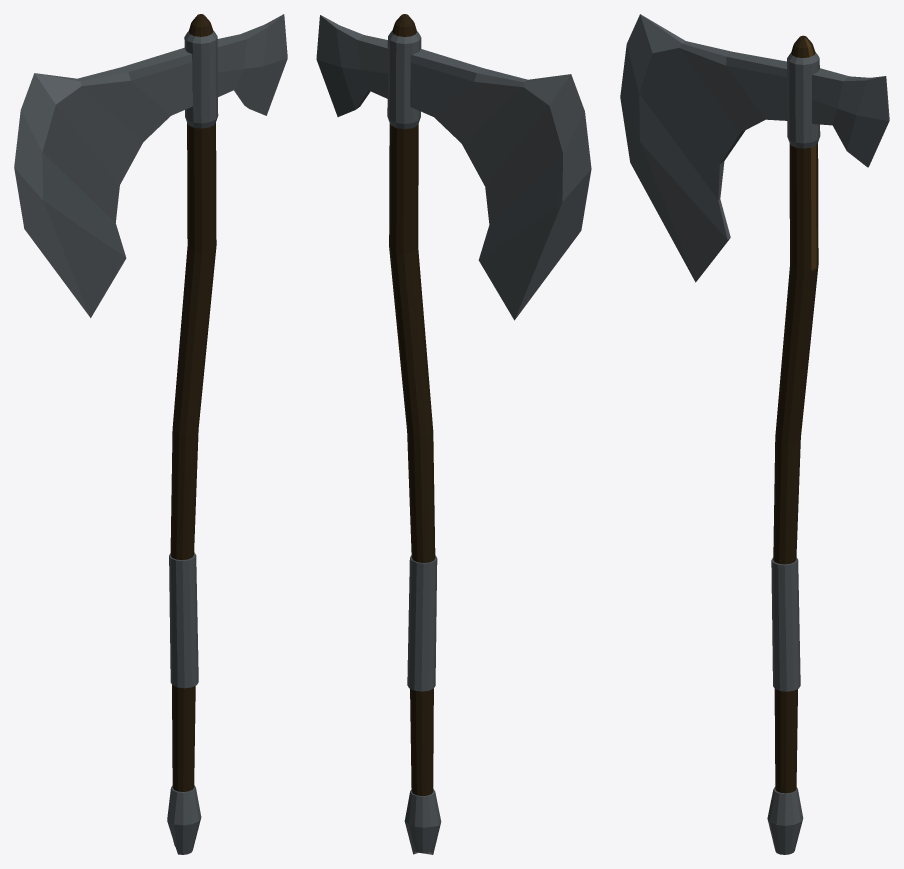
Rendered from BattleAxe.fbx.
The picture shows the model from 3 angles, left to right: view 1: azimuth 30°, elevation 25°; view 2: azimuth 150°, elevation 25°; view 3: azimuth 330°, elevation 25°; orthographic projection. The views are drawn at different scales.
Parts seen in each view (by area): view 1: BattleAxe; view 2: BattleAxe; view 3: BattleAxe.
Boxes of the visible parts, x1,y1,x2,y2 form: BattleAxe: (14, 14, 287, 854); BattleAxe: (316, 14, 591, 854); BattleAxe: (620, 14, 889, 854).
Bounding box in the file's own units: 55.42 × 161 × 6.19.
Materials: 6 (6 with a texture image).
